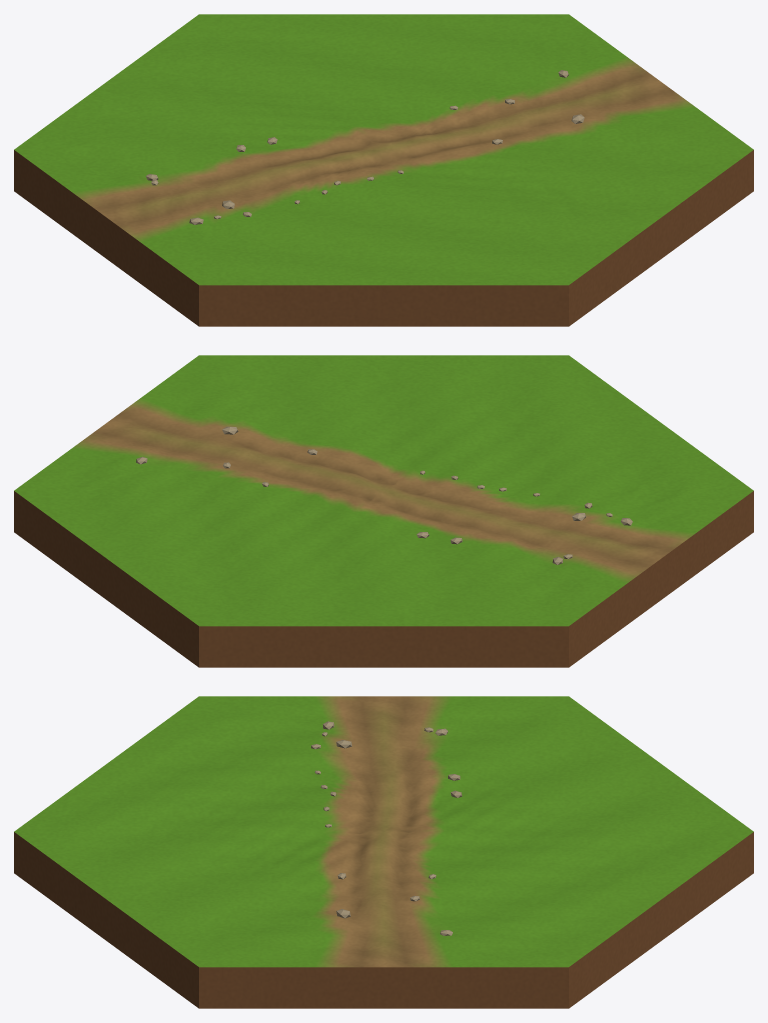
Rendered from SM_CaminoNatural_Recto_LOD0.fbx.
3 renders of one model, top to bottom at view 1: azimuth 30°, elevation 25°; view 2: azimuth 150°, elevation 25°; view 3: azimuth 270°, elevation 25°, orthographic.
Parts seen in each view (by area): view 1: SM_CaminoNatural_Recto_LOD0; view 2: SM_CaminoNatural_Recto_LOD0; view 3: SM_CaminoNatural_Recto_LOD0.
Part boxes in pixels (<box>): SM_CaminoNatural_Recto_LOD0: <box>14,14,753,326</box>; SM_CaminoNatural_Recto_LOD0: <box>14,355,753,667</box>; SM_CaminoNatural_Recto_LOD0: <box>14,696,753,1008</box>.
Bounding box in the file's own units: 1.68 × 0.1388 × 1.94.
Materials: 1 (1 with a texture image).
